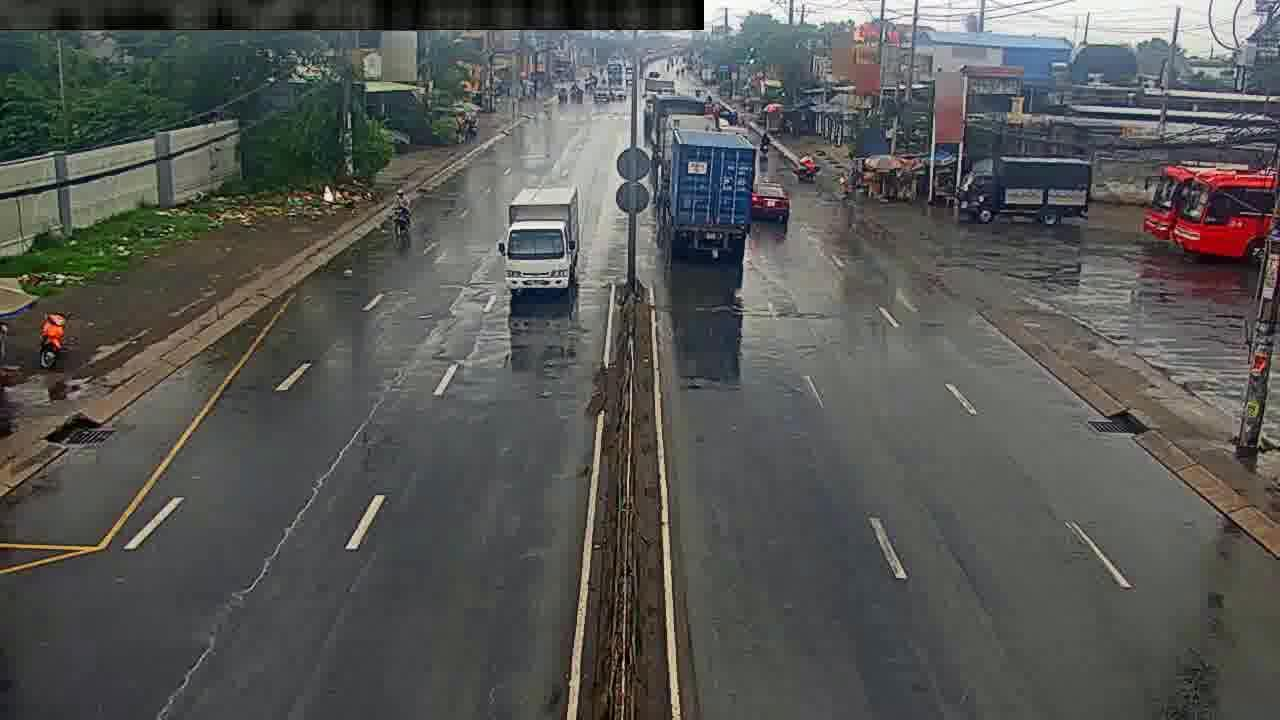8: (657, 114, 750, 251), (506, 193, 581, 291)
container: (751, 181, 790, 222)
motorbike: (34, 306, 68, 378), (393, 188, 414, 241), (794, 153, 817, 180), (761, 128, 769, 154)
